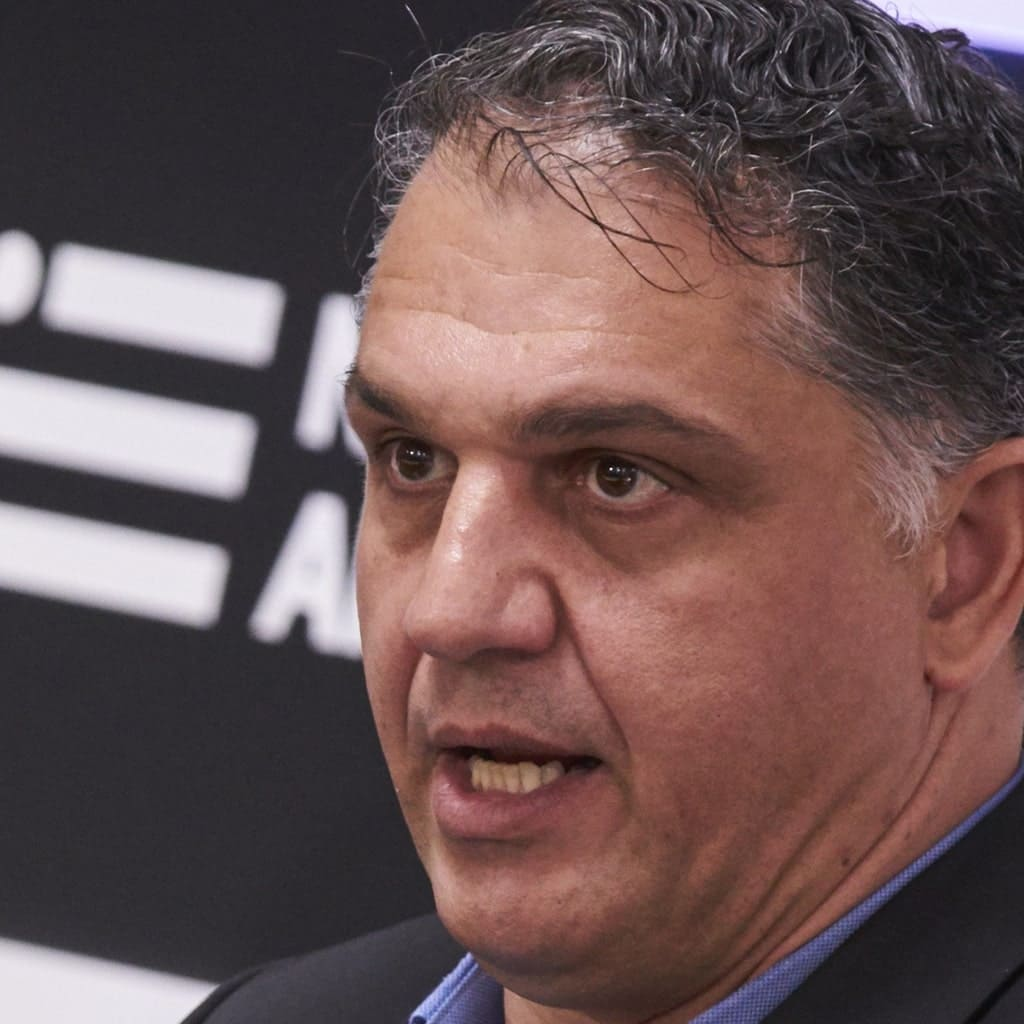without_mask: (342, 324, 772, 906)
